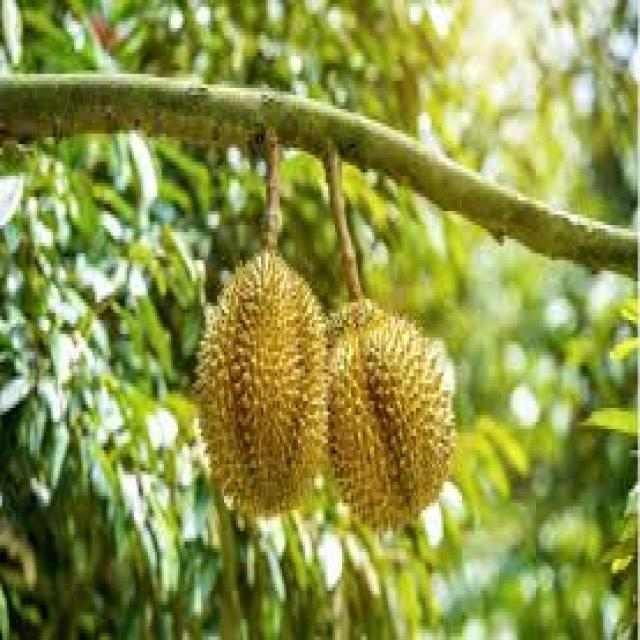mature: (196, 249, 328, 515), (329, 301, 454, 529)
